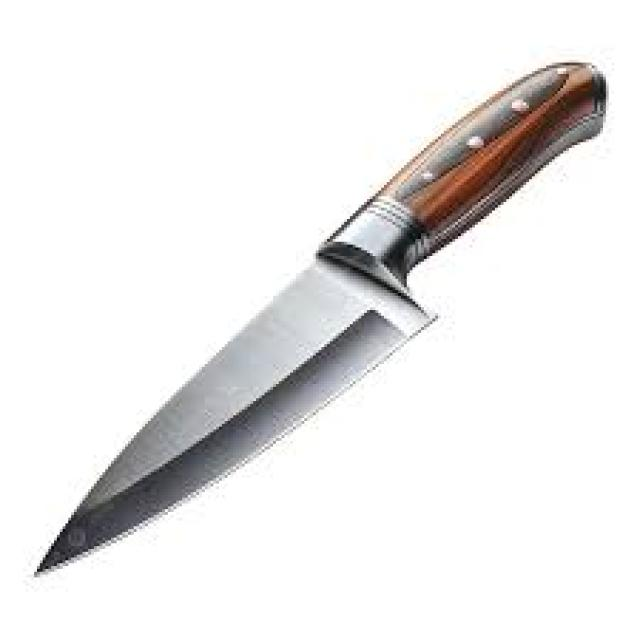Knife: (31, 57, 609, 577)
